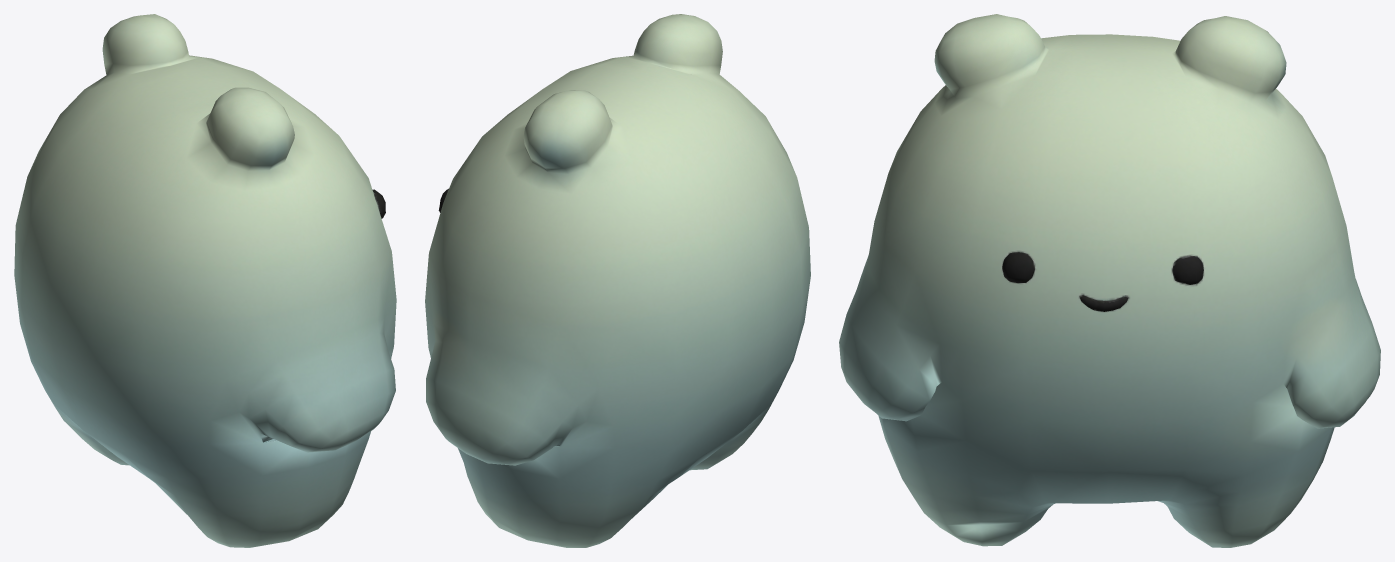
File: bear.glb
3 views of the same model, side by side, from view 1: azimuth 30°, elevation 25°; view 2: azimuth 150°, elevation 25°; view 3: azimuth 270°, elevation 25° (orthographic). The views are drawn at different scales.
Visible parts, largest first — view 1: tripo_node_dbaca8ba-4486-4c43-bcc2-e7ddff0944d9; view 2: tripo_node_dbaca8ba-4486-4c43-bcc2-e7ddff0944d9; view 3: tripo_node_dbaca8ba-4486-4c43-bcc2-e7ddff0944d9.
Part boxes in pixels (x1,y1,x2,y2): tripo_node_dbaca8ba-4486-4c43-bcc2-e7ddff0944d9: (14,14,396,547); tripo_node_dbaca8ba-4486-4c43-bcc2-e7ddff0944d9: (425,14,810,547); tripo_node_dbaca8ba-4486-4c43-bcc2-e7ddff0944d9: (839,14,1380,547).
Size of the model in its own units: 0.7285 by 0.998 by 0.9863.
1 material, 1 textured.
